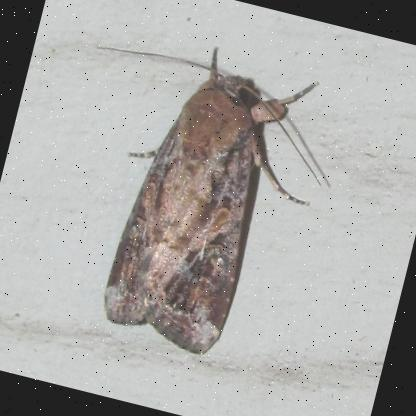Fall Armyworm Moth: (26, 13, 354, 379)
